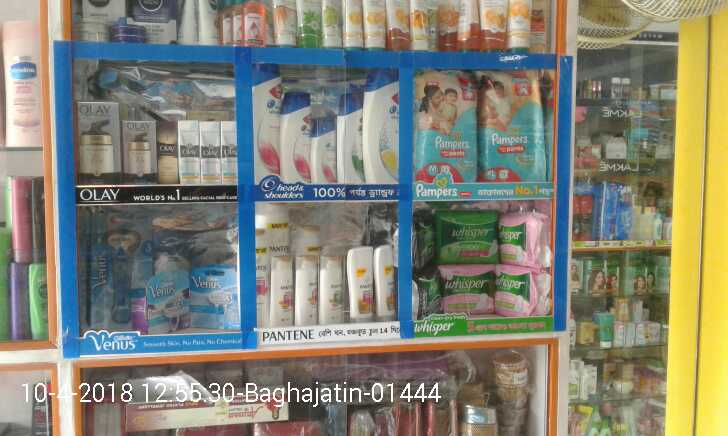venus: (81, 207, 146, 331), (190, 264, 237, 329), (147, 270, 189, 336)
